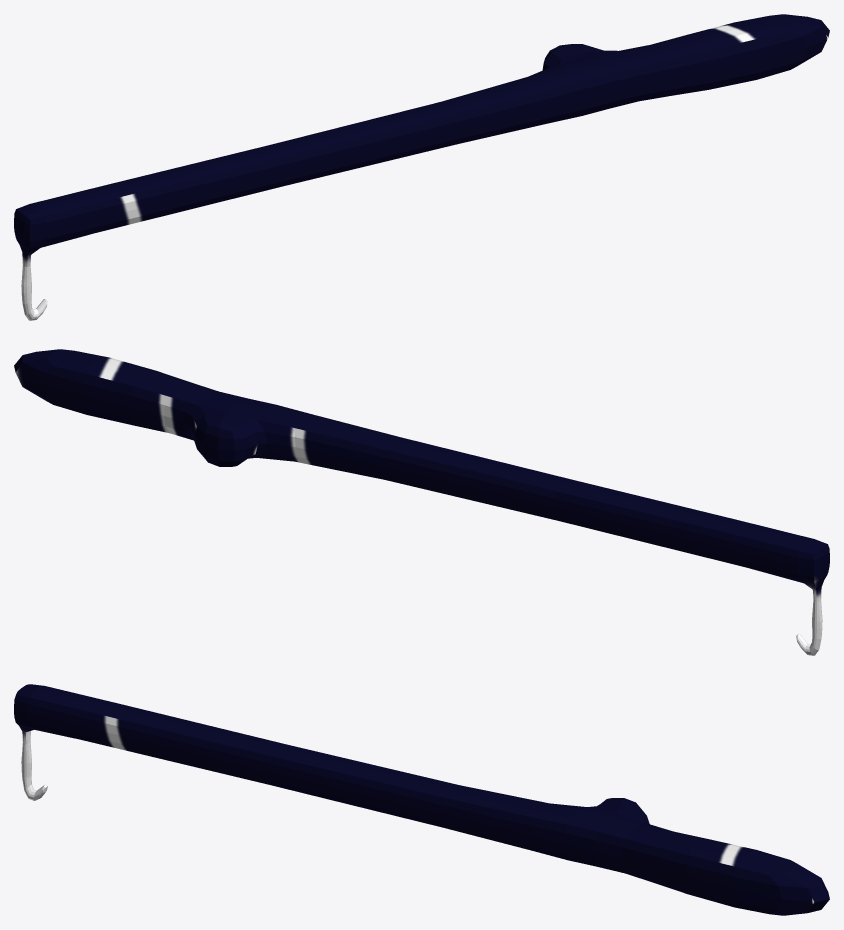
Rendered from fishing_rod.fbx.
3 views of the same model, one above another, from view 1: azimuth 30°, elevation 25°; view 2: azimuth 150°, elevation 25°; view 3: azimuth 330°, elevation 25° (orthographic).
Visible parts, largest first — view 1: Cube; view 2: Cube; view 3: Cube.
Boxes of the visible parts, x1,y1,x2,y2 form: Cube: (14,14,829,320); Cube: (14,349,829,655); Cube: (14,684,829,915).
Size of the model in its own units: 310 by 43.85 by 31.78.
Materials: 1 (1 with a texture image).
